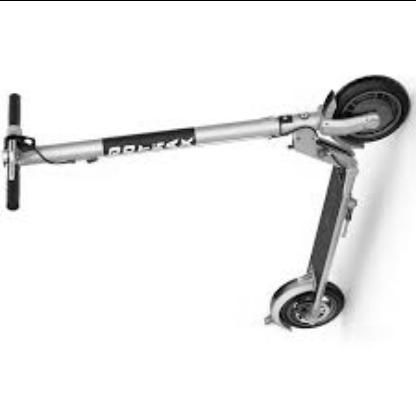bike: (1, 75, 412, 336)
